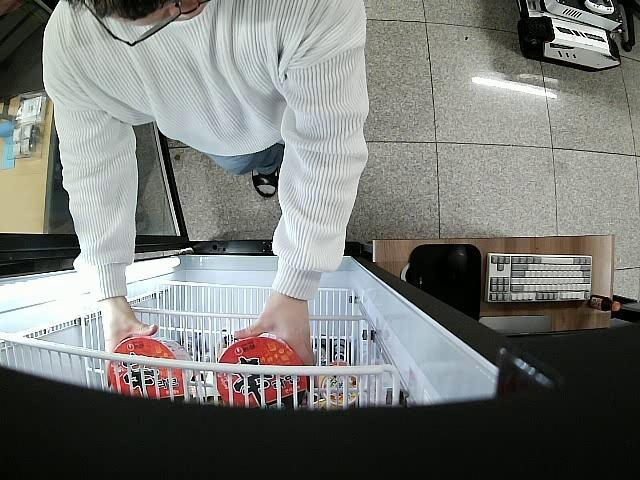01_ShinRamen_L: (215, 335, 308, 413), (108, 337, 196, 401)
